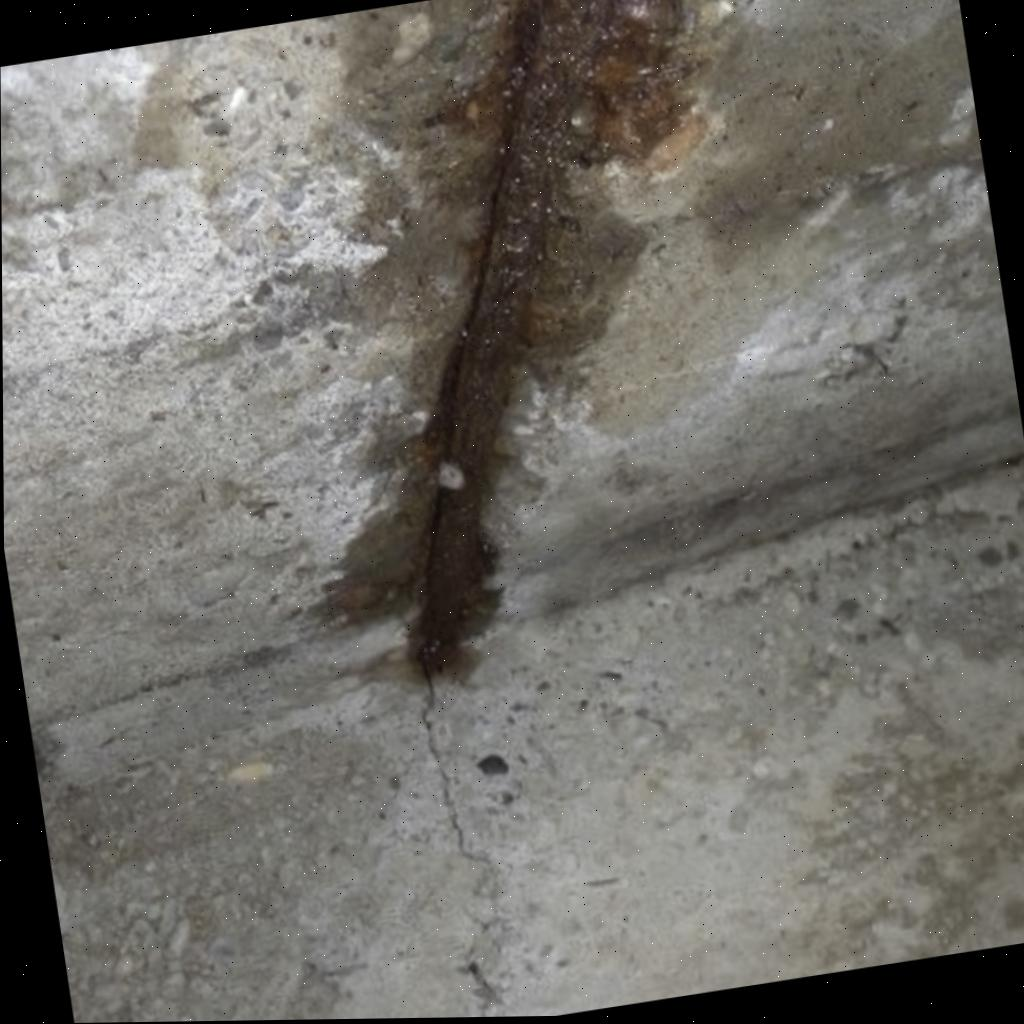exposed_rebar: (410, 0, 681, 677)
